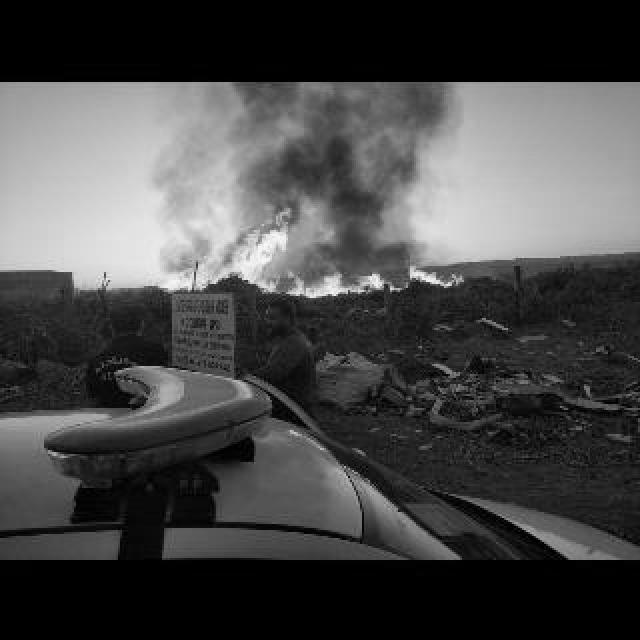Fire: (158, 214, 294, 296), (290, 264, 468, 296)
Smoke: (234, 78, 468, 262)
